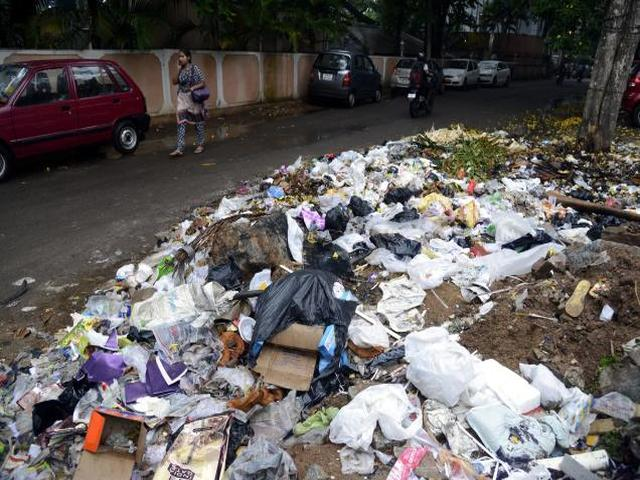garbage: (39, 312, 477, 473), (175, 223, 466, 313), (293, 157, 485, 216)
